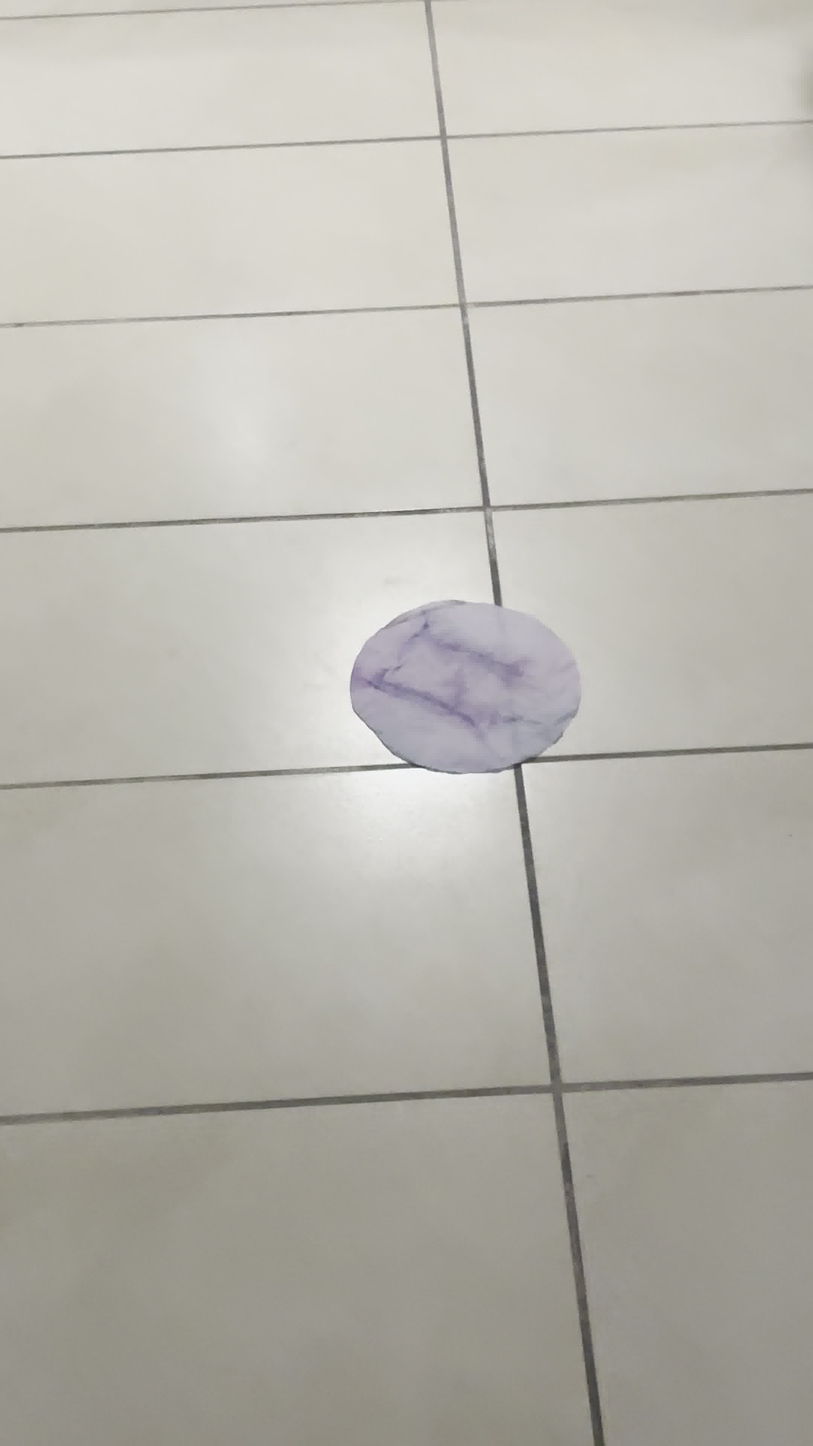Target: (349, 599, 583, 774)
